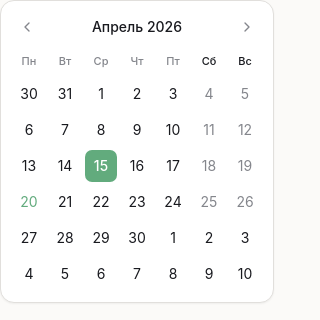
BaseCalendar › switches month on prev/next buttons
Click the button with test id "base-calendar-next" at (247, 27), box [233,13,261,41]
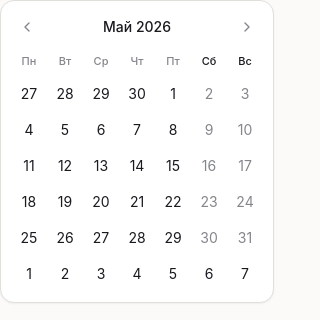
Now the text with test id "base-calendar-title" shows "Май", box [103,18,171,35]
Click the button with test id "base-calendar-prev" at (27, 27), box [13,13,41,41]
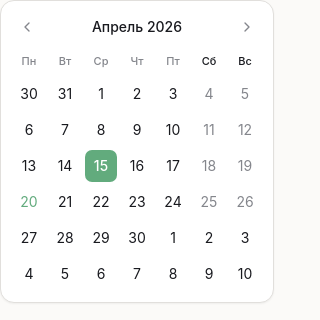
Click the button with test id "base-calendar-prev" at (27, 27), box [13,13,41,41]
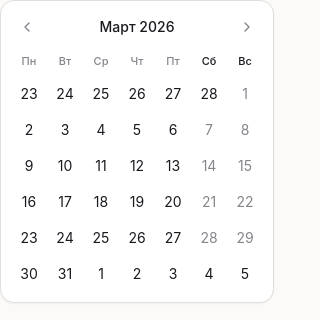
Now the text with test id "base-calendar-title" shows "Март", box [100,18,174,35]
